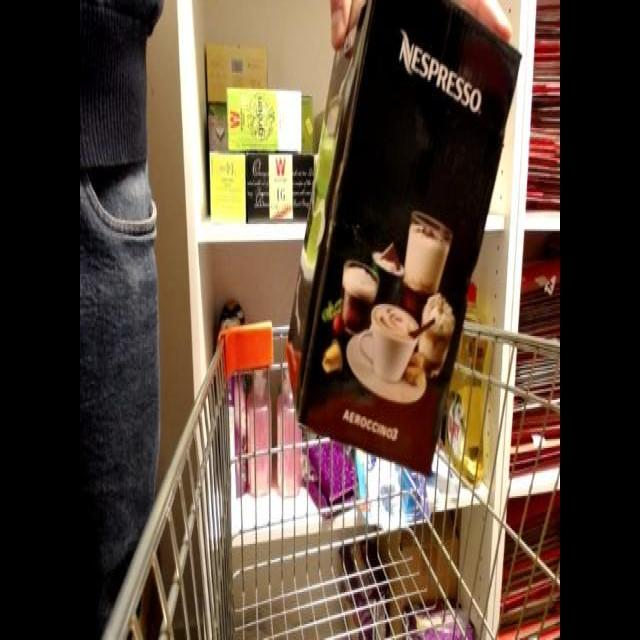Nespresso: (267, 0, 528, 478)
